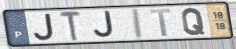I: (132, 7, 146, 41)
J: (92, 10, 116, 40), (32, 13, 56, 42)
Q: (180, 7, 207, 37)
T: (58, 11, 84, 42), (149, 8, 173, 38)
